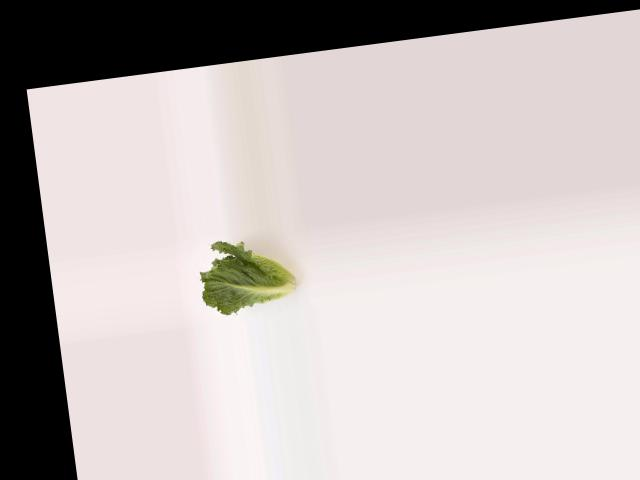lettuce: (193, 234, 310, 320)
